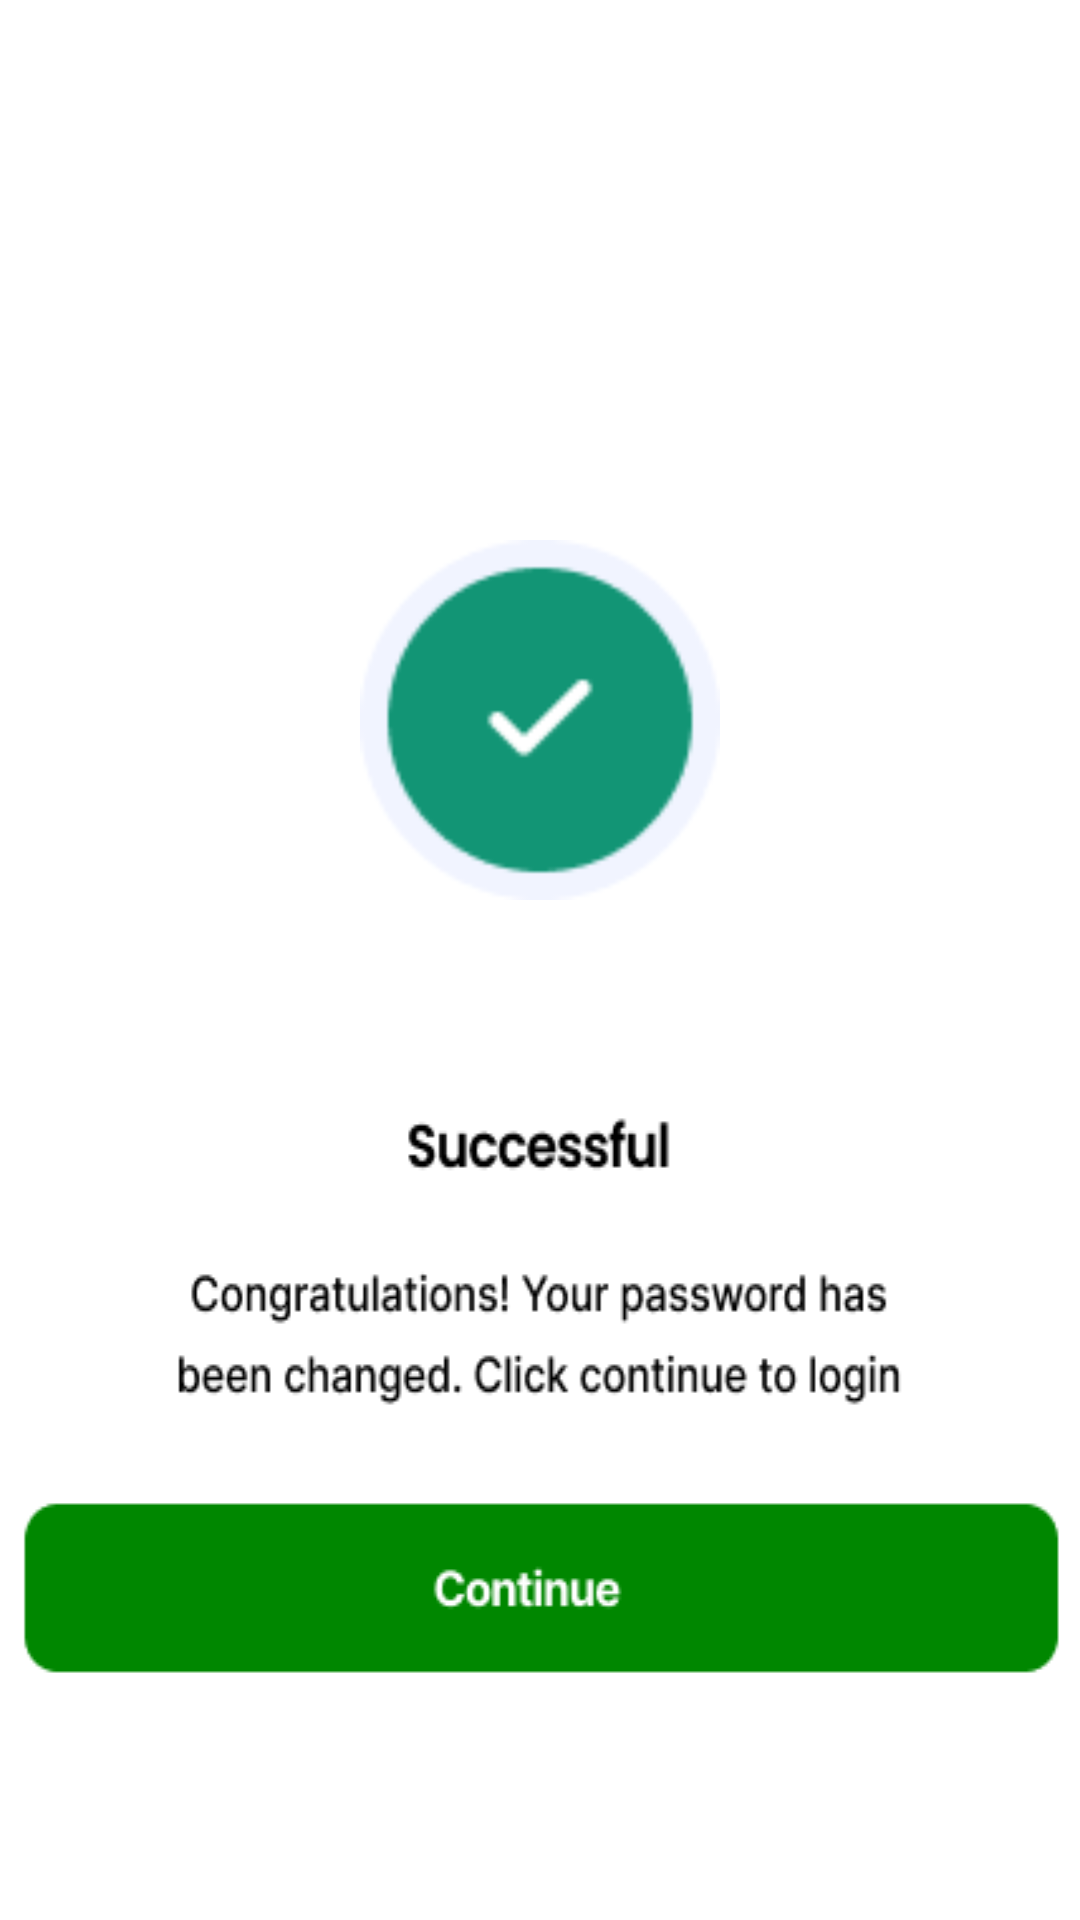

Where icons sit on this 1080px×1920px app screen, as BBox(x1, y1, x2, y2):
check: BBox(386, 566, 694, 874)
